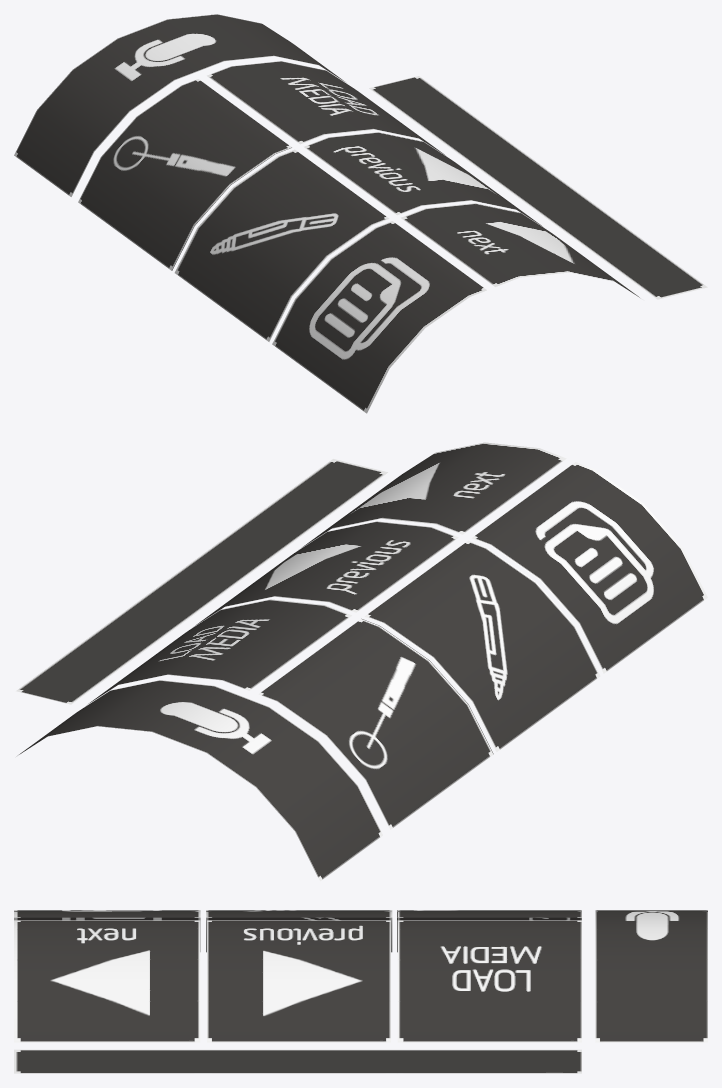
The model's file is Presentation_UI_Panel.fbx.
3 renders of one model, top to bottom at view 1: azimuth 30°, elevation 25°; view 2: azimuth 150°, elevation 25°; view 3: azimuth 270°, elevation 25°, orthographic. The views are drawn at different scales.
Visible parts, largest first — view 1: Teleprompter_button, marker_button, laser_pointer_button, mute_unmute_button, notification_bar, next_button, loadmedia_button, previous_button; view 2: Teleprompter_button, marker_button, laser_pointer_button, mute_unmute_button, notification_bar, next_button, loadmedia_button, previous_button; view 3: next_button, loadmedia_button, previous_button, mute_unmute_button, notification_bar, marker_button, Teleprompter_button, laser_pointer_button.
Boxes of the visible parts, x1=… form: Teleprompter_button: x1=272, y1=221, x2=486, y2=413; marker_button: x1=174, y1=149, x2=389, y2=341; laser_pointer_button: x1=78, y1=79, x2=291, y2=270; mute_unmute_button: x1=14, y1=14, x2=347, y2=196; notification_bar: x1=369, y1=76, x2=707, y2=299; next_button: x1=401, y1=203, x2=642, y2=299; loadmedia_button: x1=207, y1=61, x2=447, y2=156; previous_button: x1=304, y1=132, x2=544, y2=227; Teleprompter_button: x1=472, y1=462, x2=707, y2=673; marker_button: x1=364, y1=540, x2=600, y2=751; laser_pointer_button: x1=258, y1=618, x2=493, y2=829; mute_unmute_button: x1=16, y1=680, x2=382, y2=881; notification_bar: x1=16, y1=459, x2=387, y2=704; next_button: x1=299, y1=442, x2=566, y2=549; loadmedia_button: x1=86, y1=599, x2=351, y2=705; previous_button: x1=194, y1=521, x2=458, y2=626; next_button: x1=14, y1=920, x2=200, y2=1042; loadmedia_button: x1=397, y1=920, x2=581, y2=1042; previous_button: x1=207, y1=920, x2=390, y2=1042; mute_unmute_button: x1=595, y1=910, x2=707, y2=1042; notification_bar: x1=14, y1=1049, x2=581, y2=1073; marker_button: x1=206, y1=910, x2=392, y2=952; Teleprompter_button: x1=14, y1=910, x2=200, y2=951; laser_pointer_button: x1=397, y1=910, x2=581, y2=952.
Bounding box in the file's own units: 10.57 × 2.92 × 18.95.
